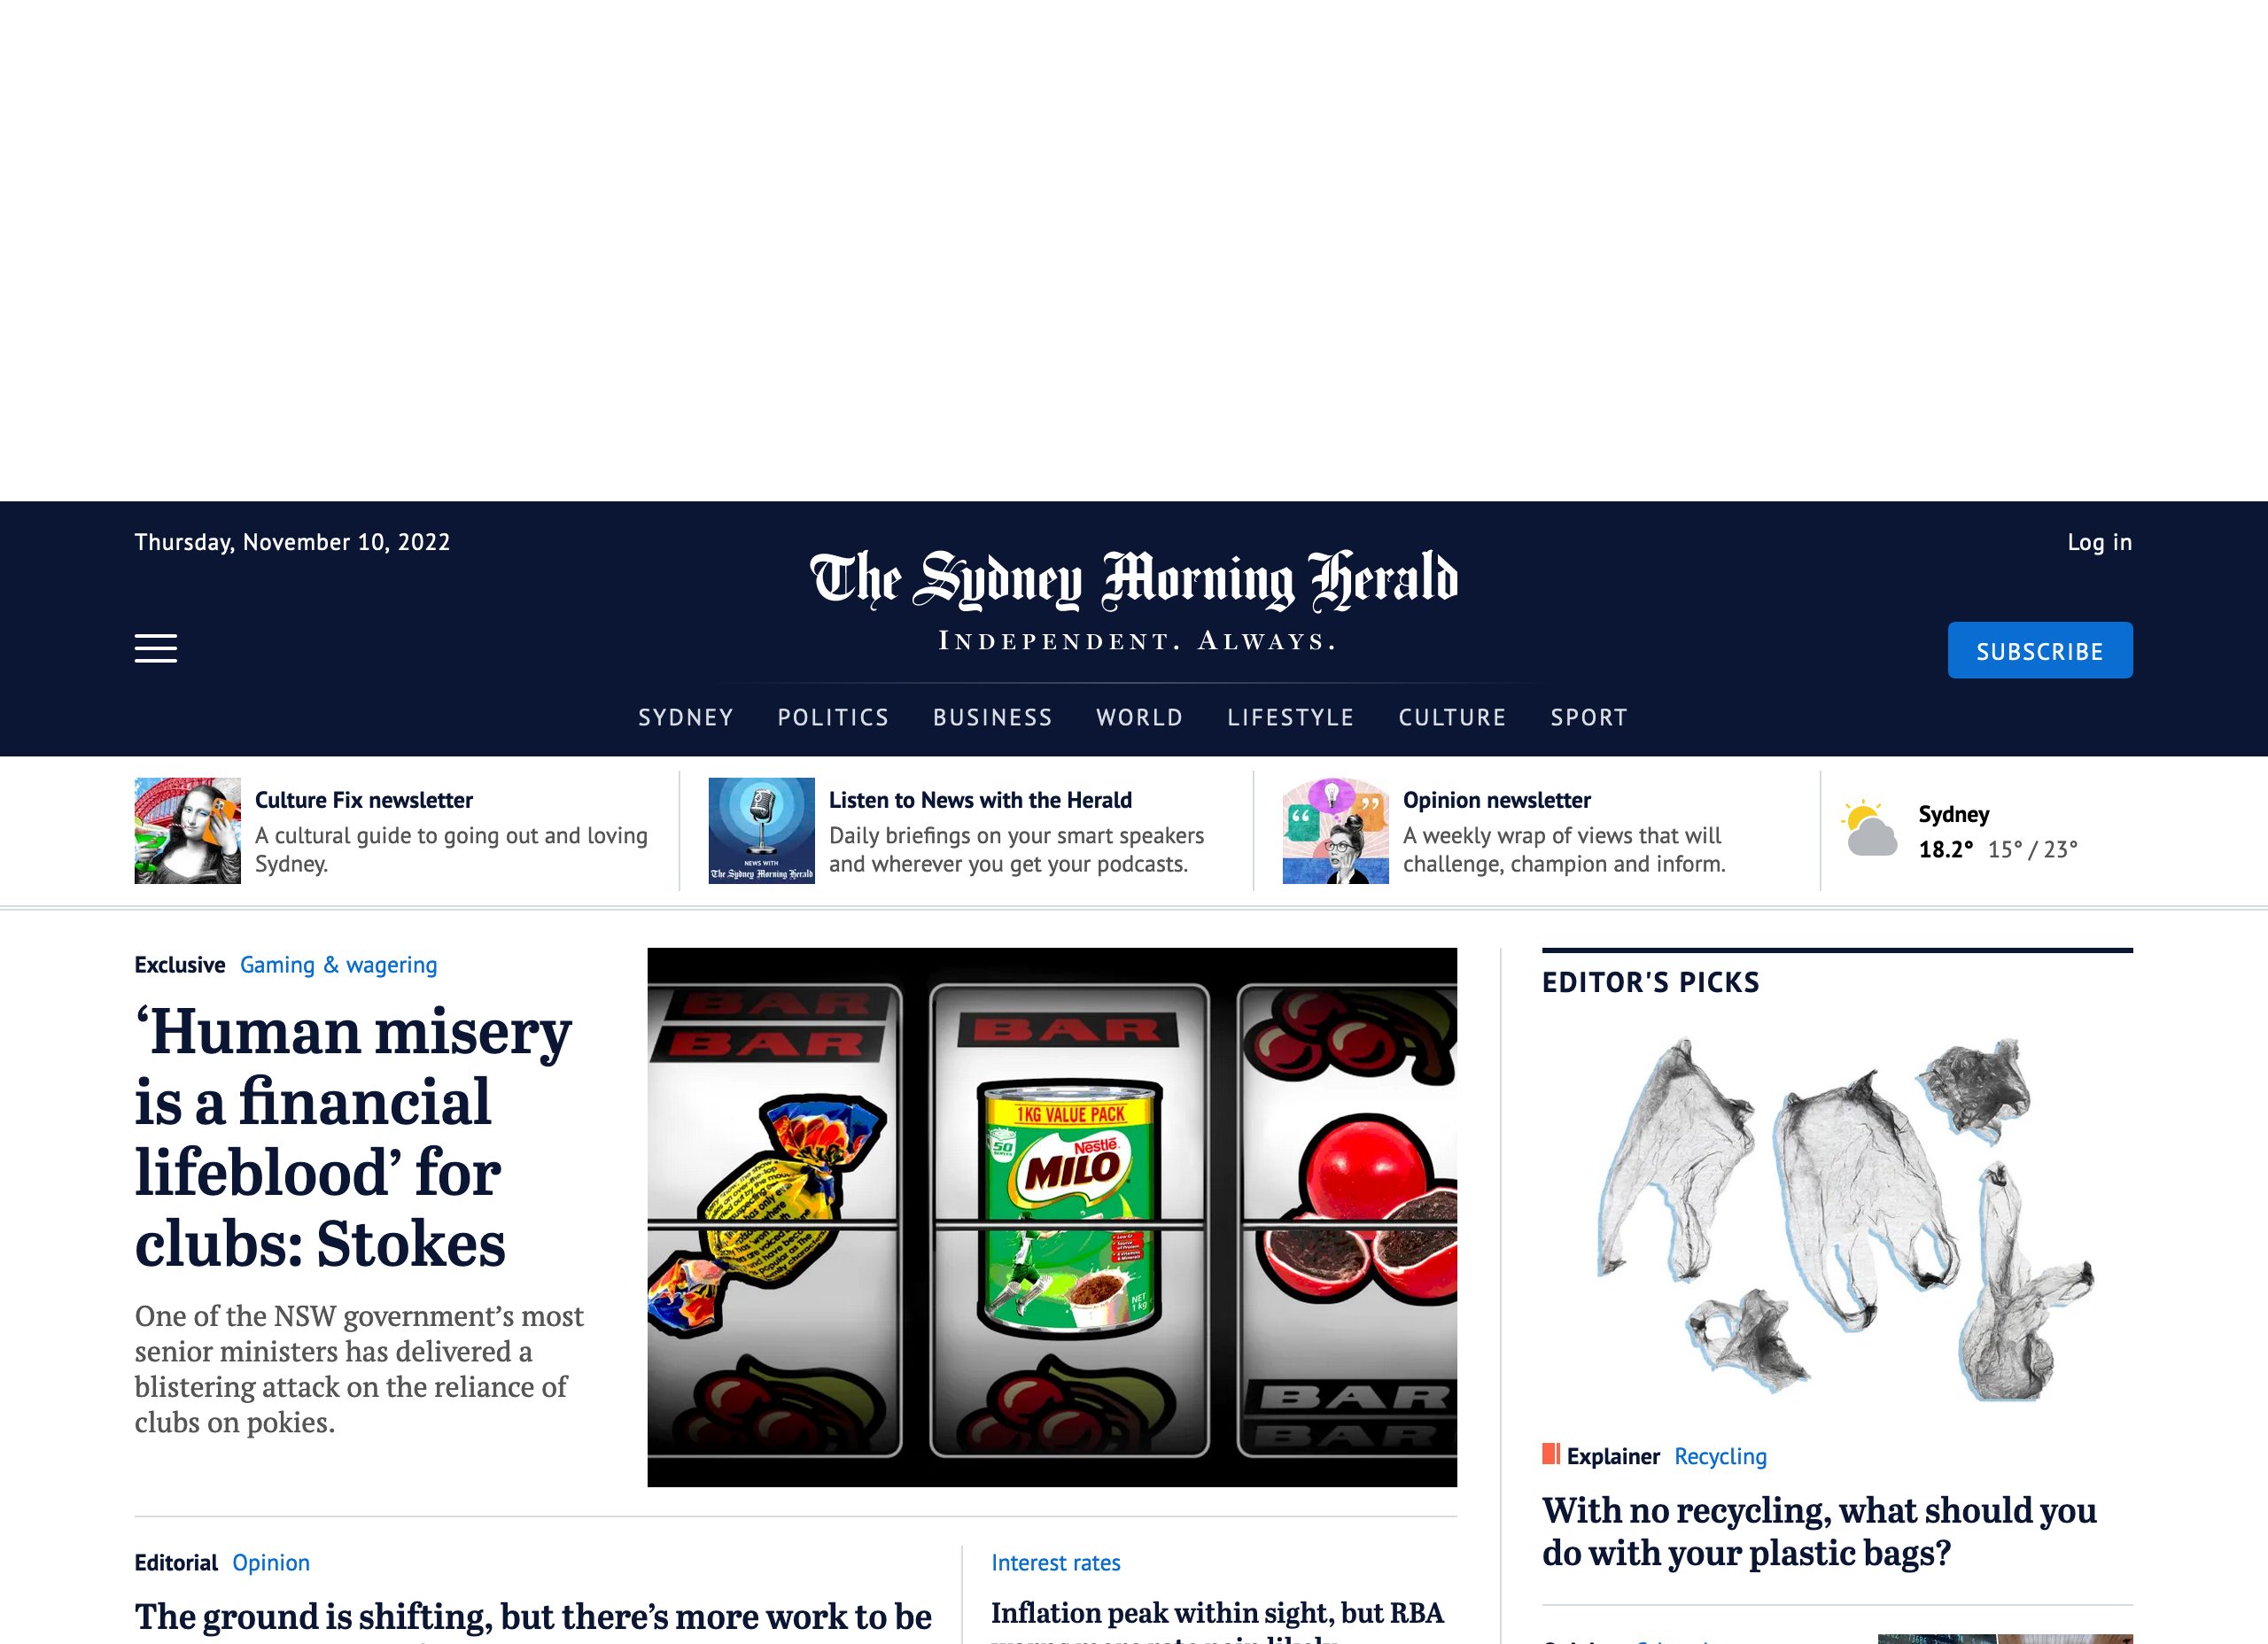Login: (2051, 521, 2148, 576)
